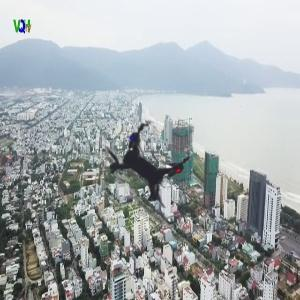drone: (67, 88, 222, 243)
